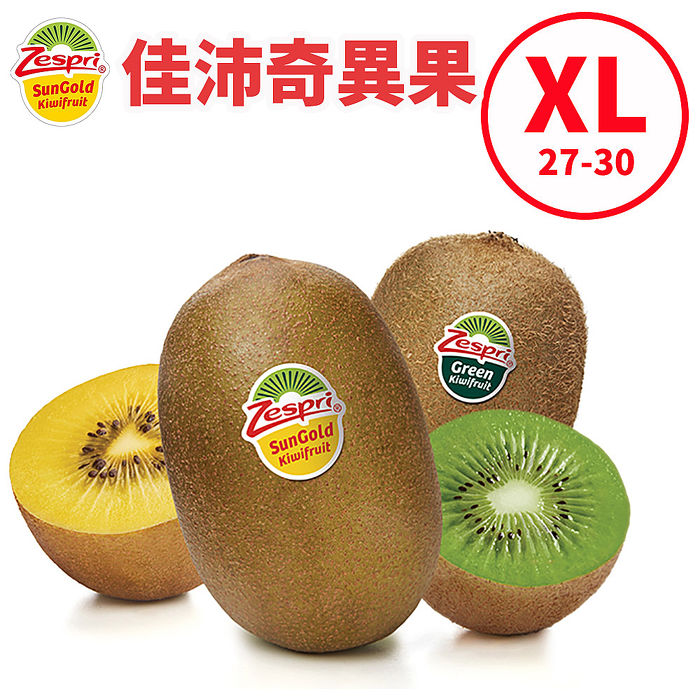kiwi: (159, 253, 441, 655), (421, 409, 630, 639), (9, 363, 204, 604), (366, 233, 585, 441)
